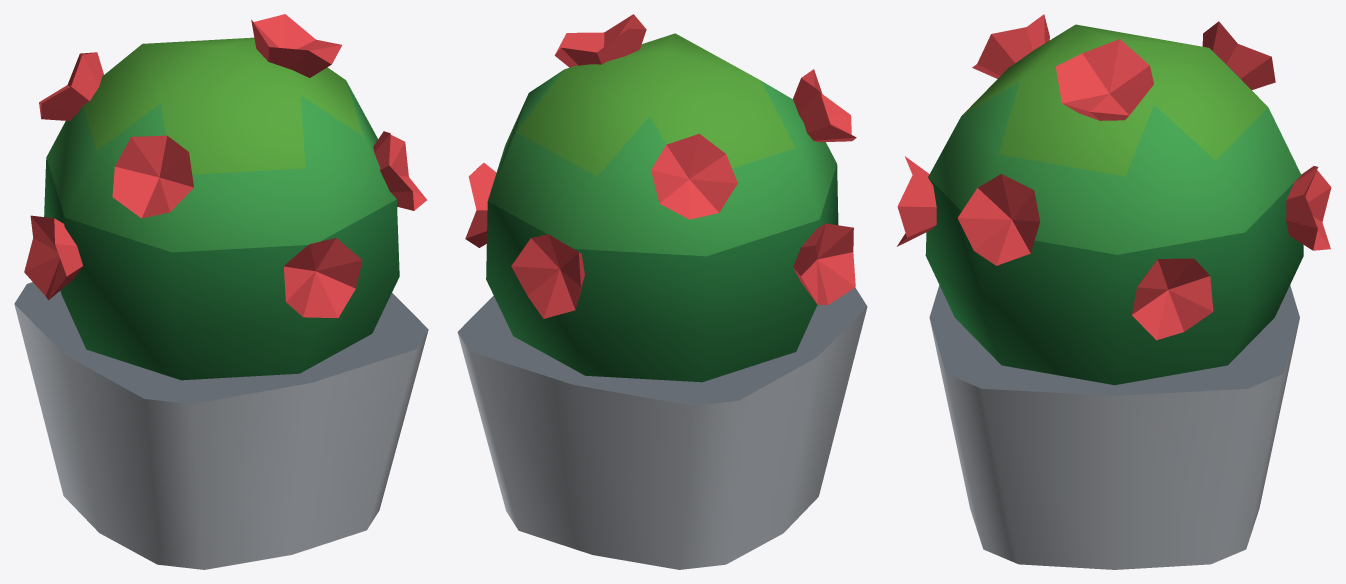
Rendered from bush_06_pacote.glb.
3 views of the same model, side by side, from view 1: azimuth 30°, elevation 25°; view 2: azimuth 150°, elevation 25°; view 3: azimuth 270°, elevation 25° (orthographic). The views are drawn at different scales.
Visible parts, largest first — view 1: bush_06_pacote; view 2: bush_06_pacote; view 3: bush_06_pacote.
Part boxes in pixels (x1=…): bush_06_pacote: x1=14, y1=14, x2=428, y2=569; bush_06_pacote: x1=457, y1=14, x2=867, y2=569; bush_06_pacote: x1=897, y1=14, x2=1331, y2=569.
Bounding box in the file's own units: 1.58 × 1.98 × 1.61.
Materials: 1 (1 with a texture image).
